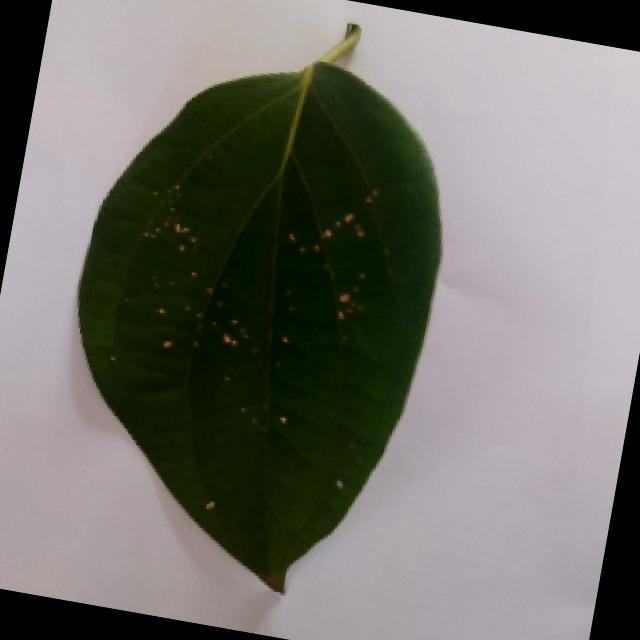pollu-disease: (31, 0, 473, 606)
